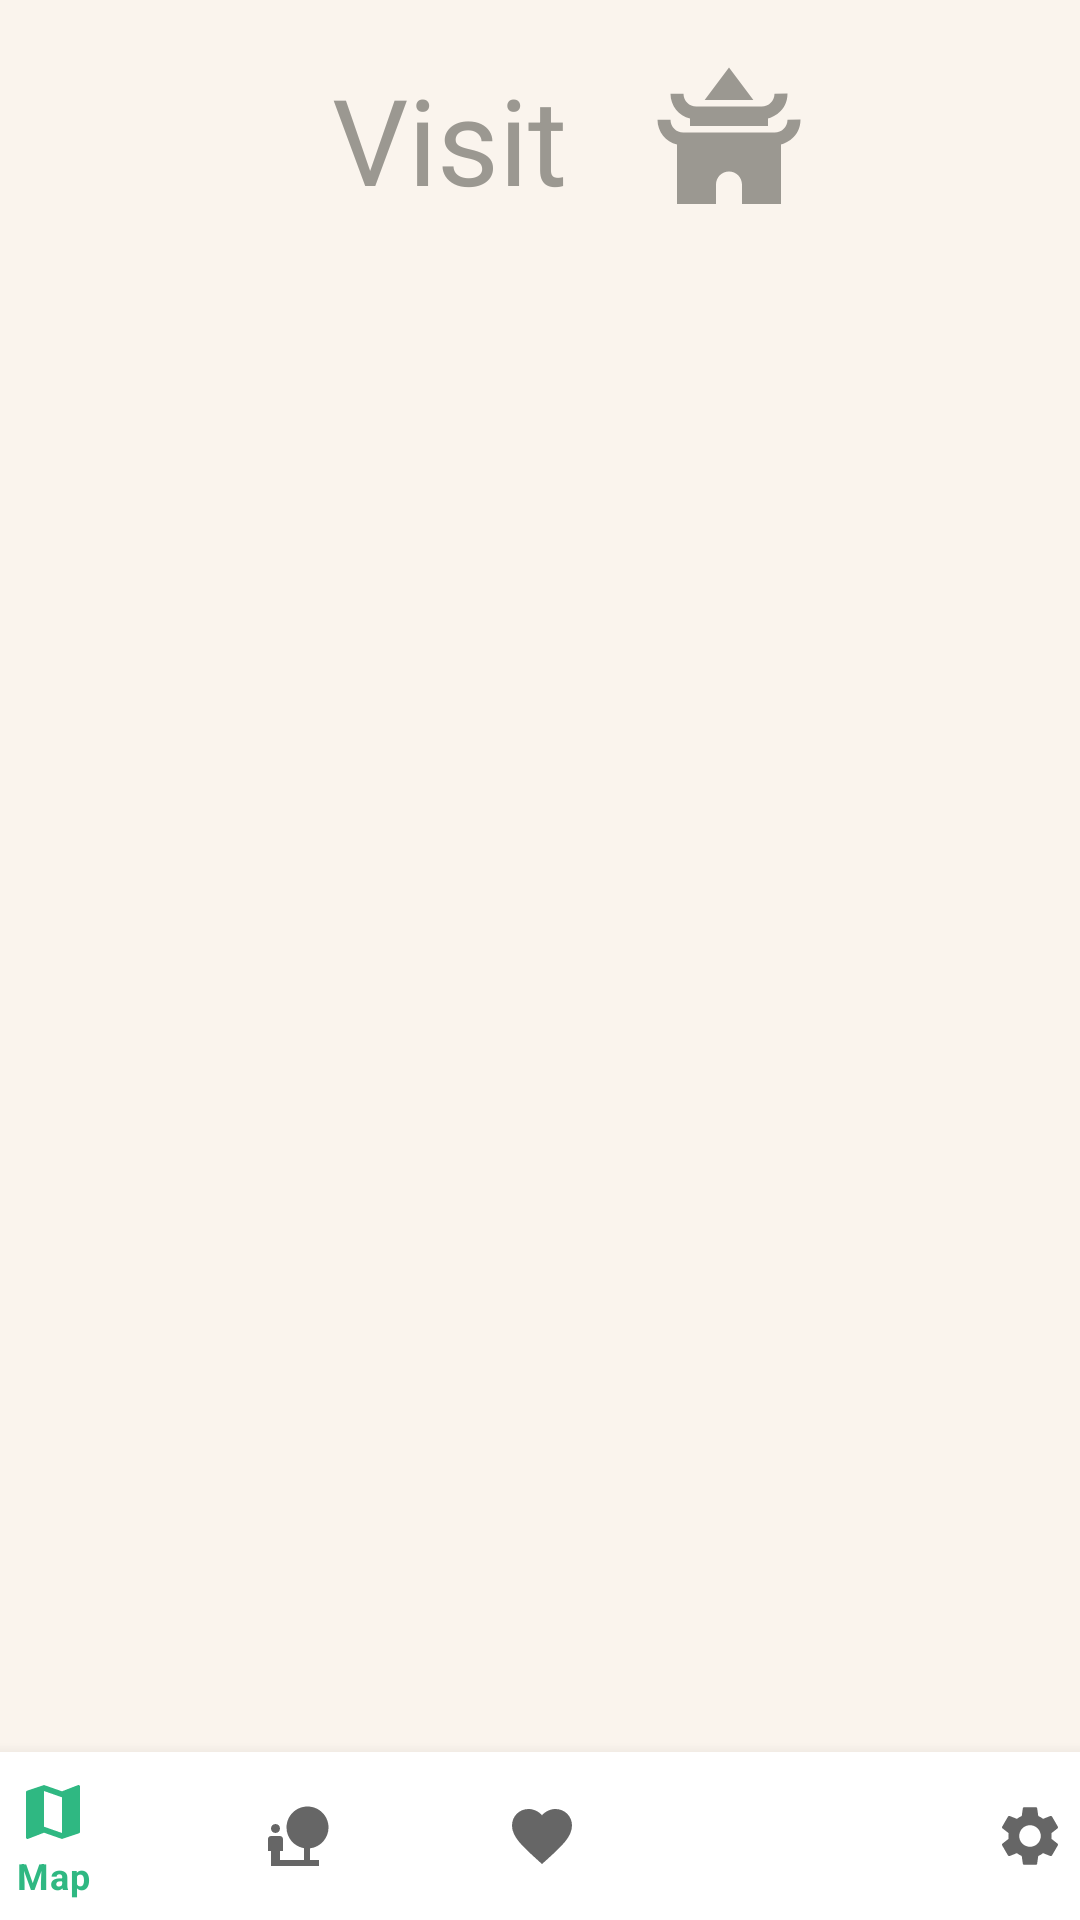

Icons on this 1080 x 1920 Android screen, each with its box as (x1, y1, x2, y2):
temple buddhist: (657, 68, 801, 204)
